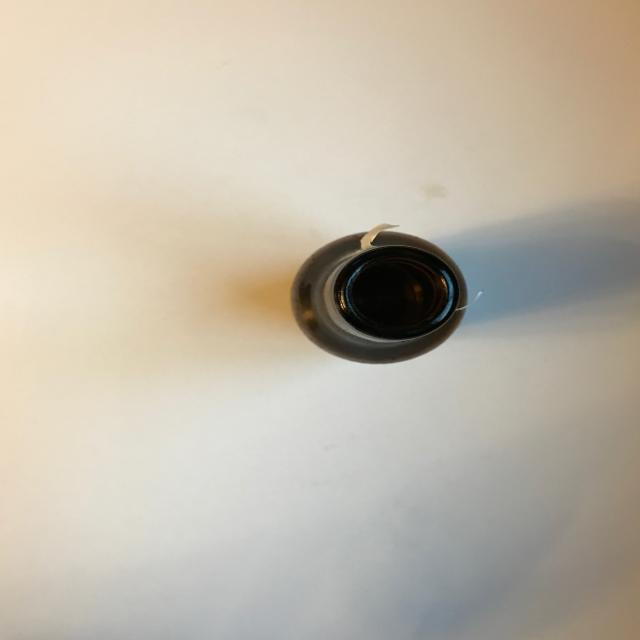glass: (288, 222, 480, 364)
